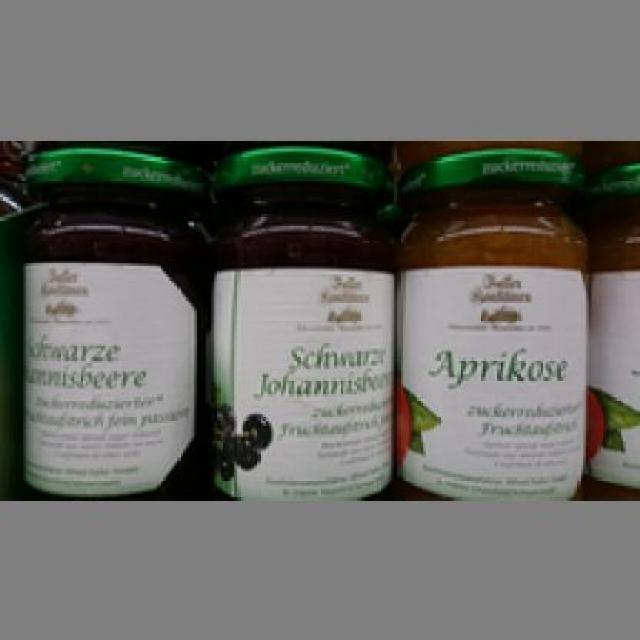Jam: (202, 145, 398, 498), (394, 146, 592, 494), (13, 145, 206, 498)
